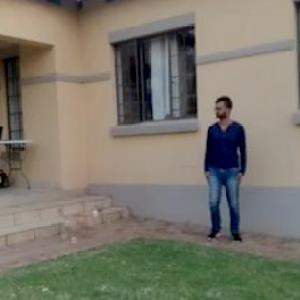follow: (190, 102, 233, 246)
